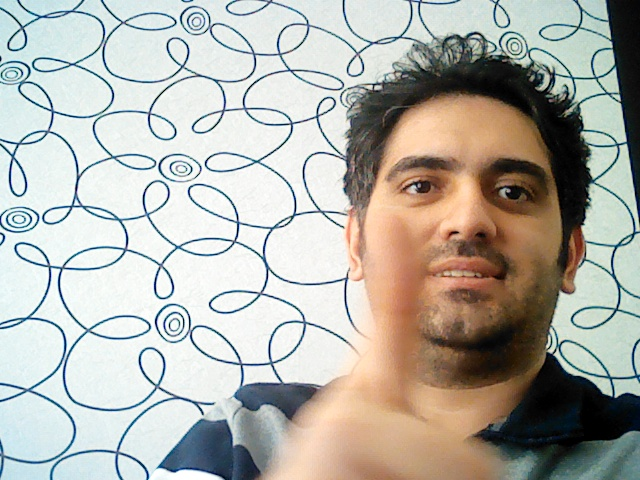ThumbUp: (241, 209, 496, 480)
